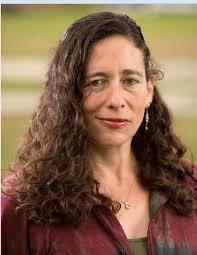strokeEyeWeak: (85, 68, 144, 93)
strokeMouthWeak: (93, 113, 135, 132)
